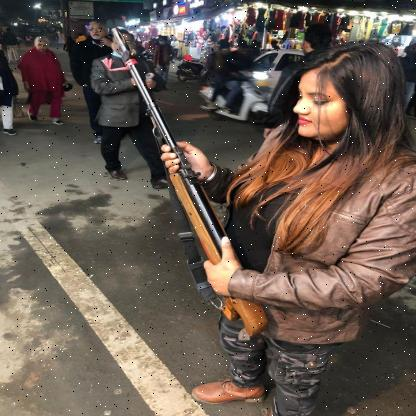rifle: (108, 26, 272, 340)
